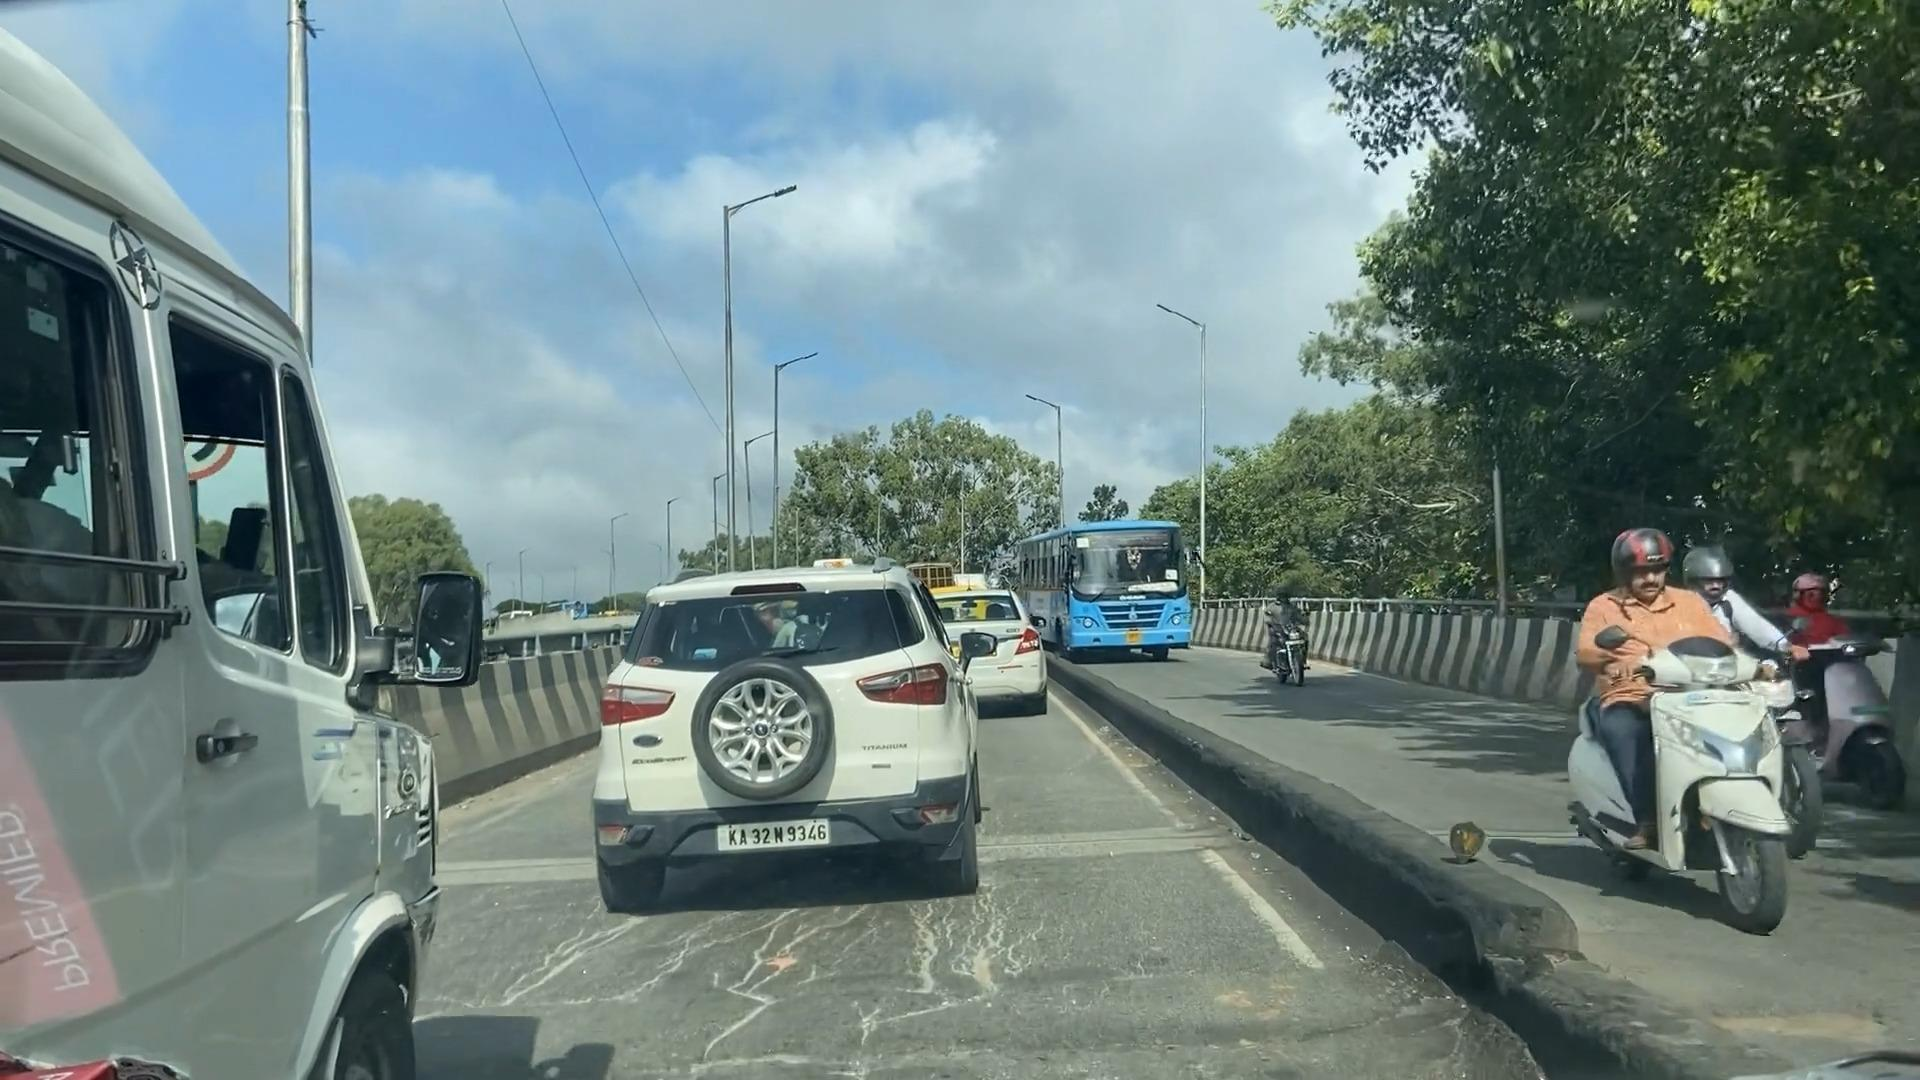LMV: (583, 572, 964, 910), (940, 607, 1048, 712)
RoadDamages: (421, 893, 1054, 1068)
SpeedBump: (985, 819, 1207, 861), (439, 848, 587, 889)
